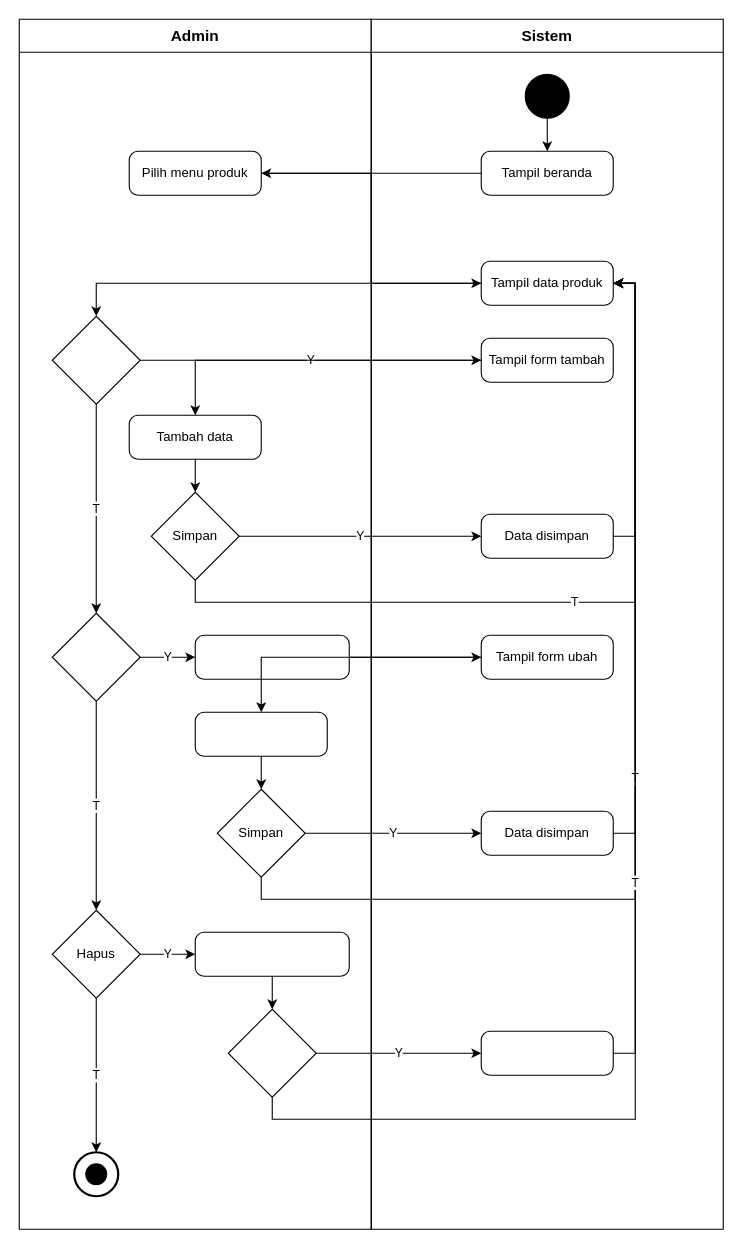
Image size: 743x1249. Some labels were removed from this diagram. The centre of each missing label's shape, as x and y in pixels:
"Data dihapus" goes at point (546, 1052).
"Pilih data yang akan dihapus" goes at point (271, 953).
"Pilih data yang di ubah" goes at point (271, 656).
"Tambah" goes at point (95, 359).
"Ubah" goes at point (95, 656).
"Ubah data" goes at point (260, 733).
"Yakin hapus" goes at point (271, 1052).
